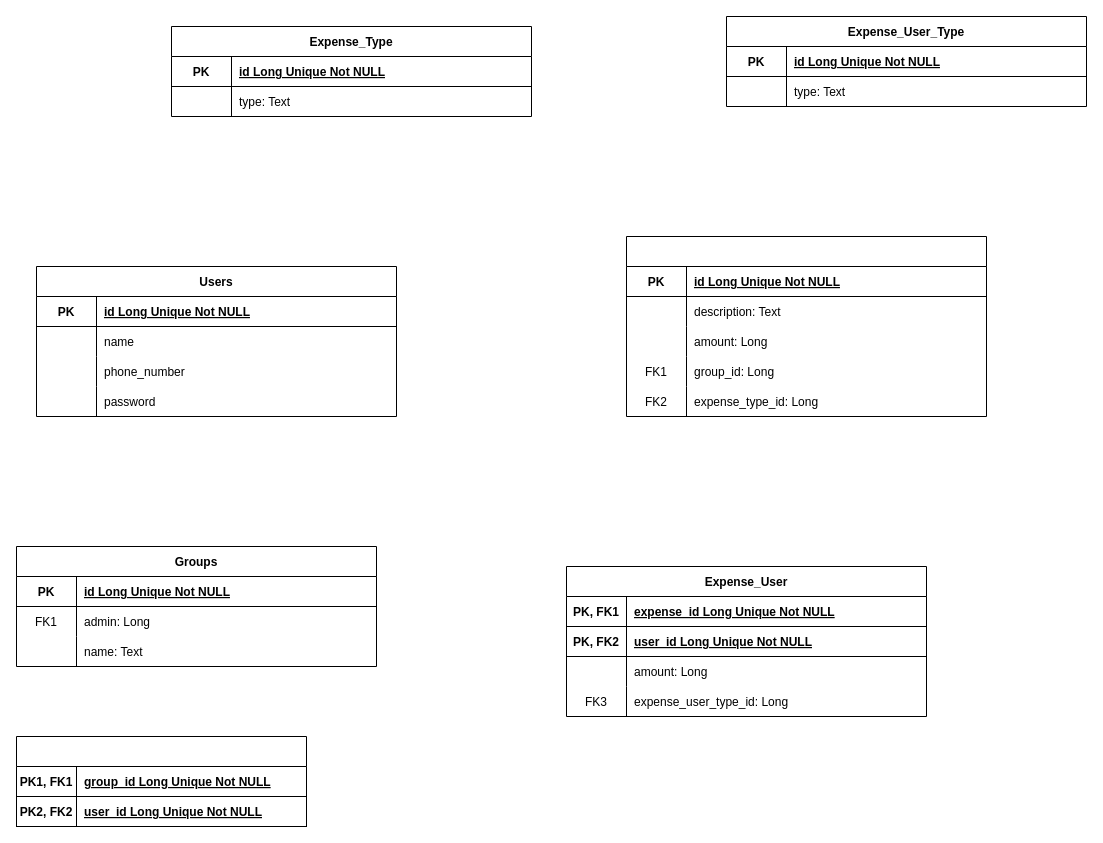
Some shapes in this 1103 by 843 pixel diagram are drawn without their labels. The shapes that lost their labels are listed below. From the top down, each one's box as (x1, y1, x2, y2) in pixels, then its label:
(626, 236, 986, 416): Expenses
(16, 736, 306, 826): Group_User
